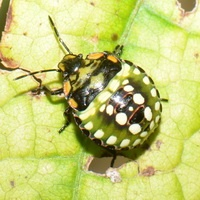insect: (0, 15, 167, 182)
